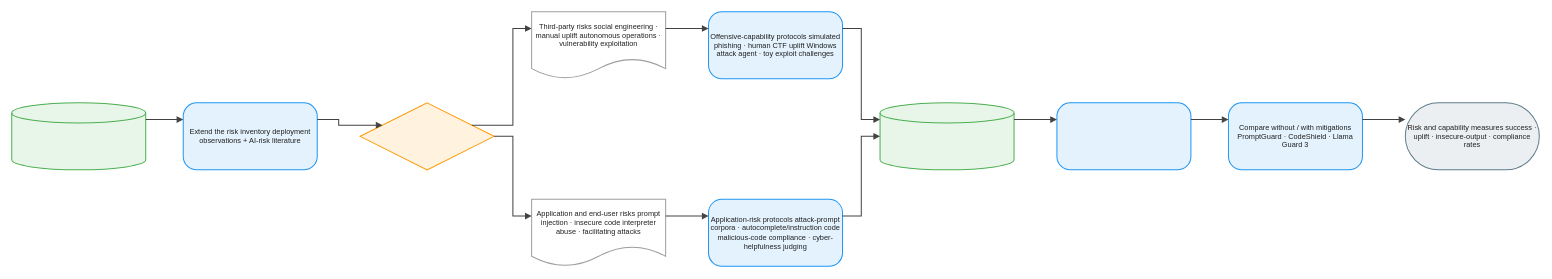
The diagram is 1552 pixels wide and 279 high, and some of its shapes have lost their labels. Here are the shapes that lost their labels. From the top down, the centre of each, then its label:
At point (78, 136): "CyberSecEval 1 and 2 exploit · insecure code · helpfulness · injection".
At point (426, 136): "Two risk families".
At point (946, 136): "CyberSecEval 3 eight risks · public automated evaluations".
At point (1123, 136): "Run Llama 3 and peer models human, execution, and LLM-based review".
